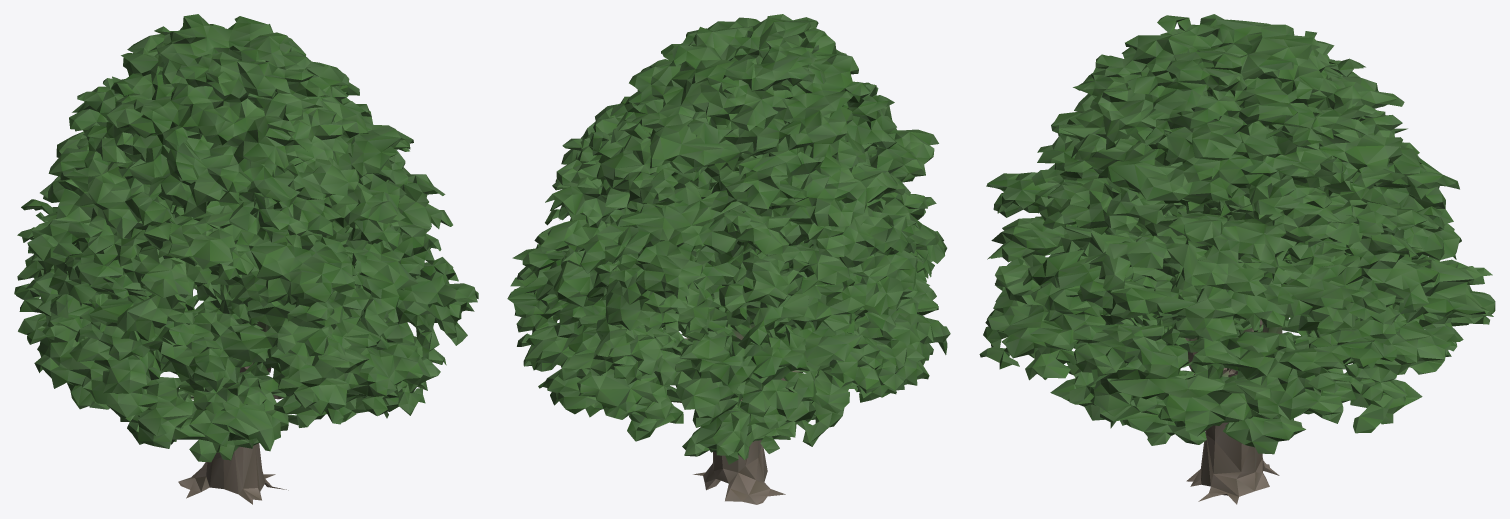
Rendered from alder_tree.glb.
3 renders of one model, left to right at view 1: azimuth 30°, elevation 25°; view 2: azimuth 150°, elevation 25°; view 3: azimuth 270°, elevation 25°, orthographic.
Parts seen in each view (by area): view 1: world; view 2: world; view 3: world.
Part boxes in pixels (x1=…): world: x1=14, y1=14, x2=478, y2=504; world: x1=507, y1=14, x2=950, y2=504; world: x1=979, y1=14, x2=1495, y2=504.
Bounding box in the file's own units: 3.46 × 4 × 4.2.
